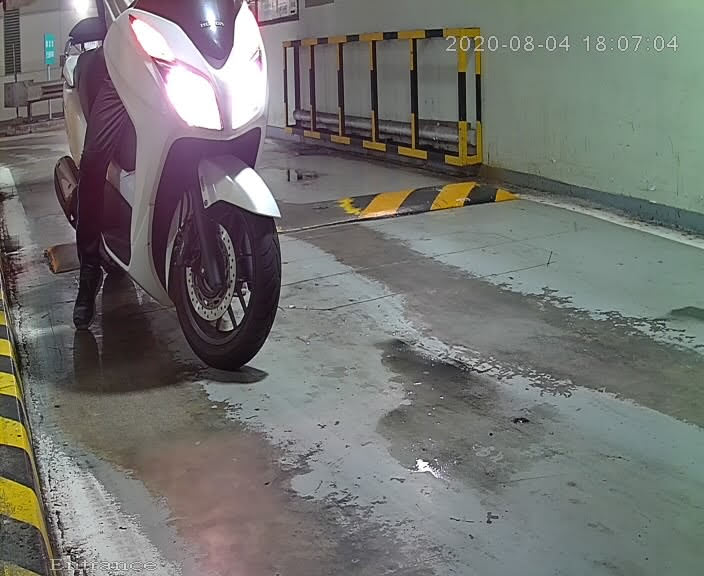motorcycle: (32, 1, 305, 387)
